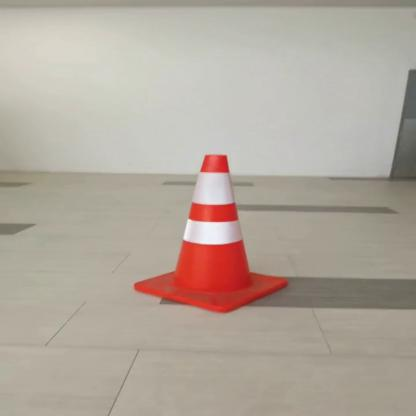cone: (121, 145, 294, 315)
